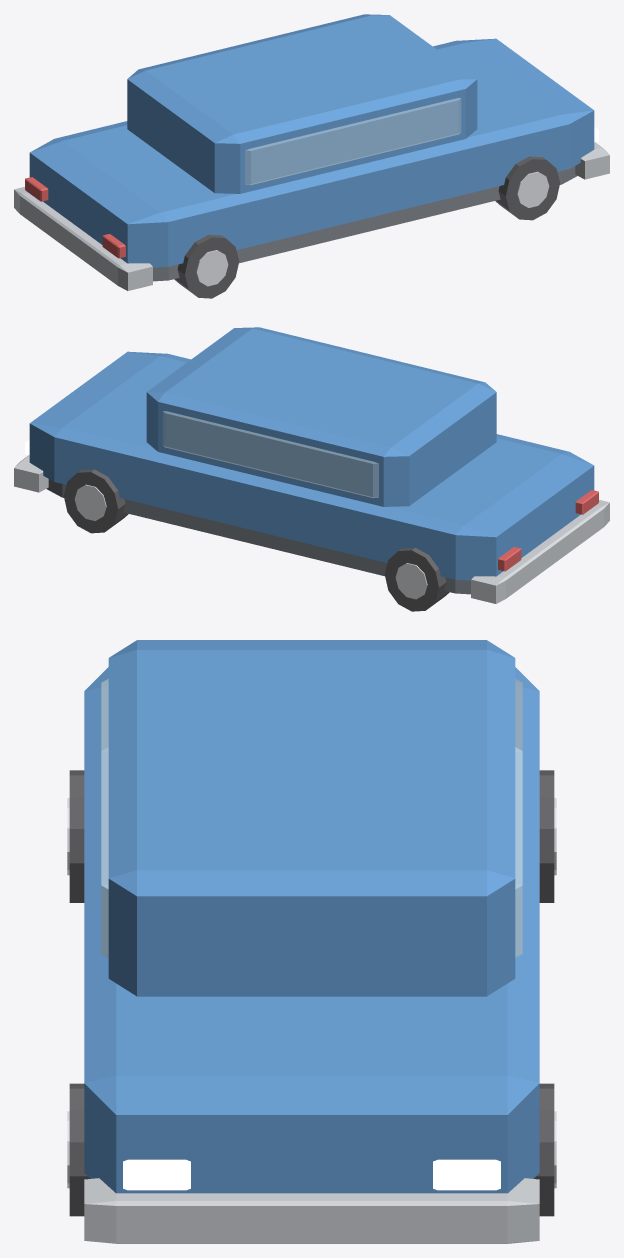
The model's file is b03_fullsize_luxury_sedan.glb.
3 views of the same model, one above another, from view 1: azimuth 30°, elevation 25°; view 2: azimuth 150°, elevation 25°; view 3: azimuth 270°, elevation 25° (orthographic). The views are drawn at different scales.
Visible parts, largest first — view 1: b03_fullsize_luxury_sedan; view 2: b03_fullsize_luxury_sedan; view 3: b03_fullsize_luxury_sedan.
Boxes of the visible parts, <box> form: b03_fullsize_luxury_sedan: <box>14,14,609,298</box>; b03_fullsize_luxury_sedan: <box>14,327,609,611</box>; b03_fullsize_luxury_sedan: <box>67,640,556,1243</box>.
Size of the model in its own units: 5.51 by 1.54 by 2.4.
